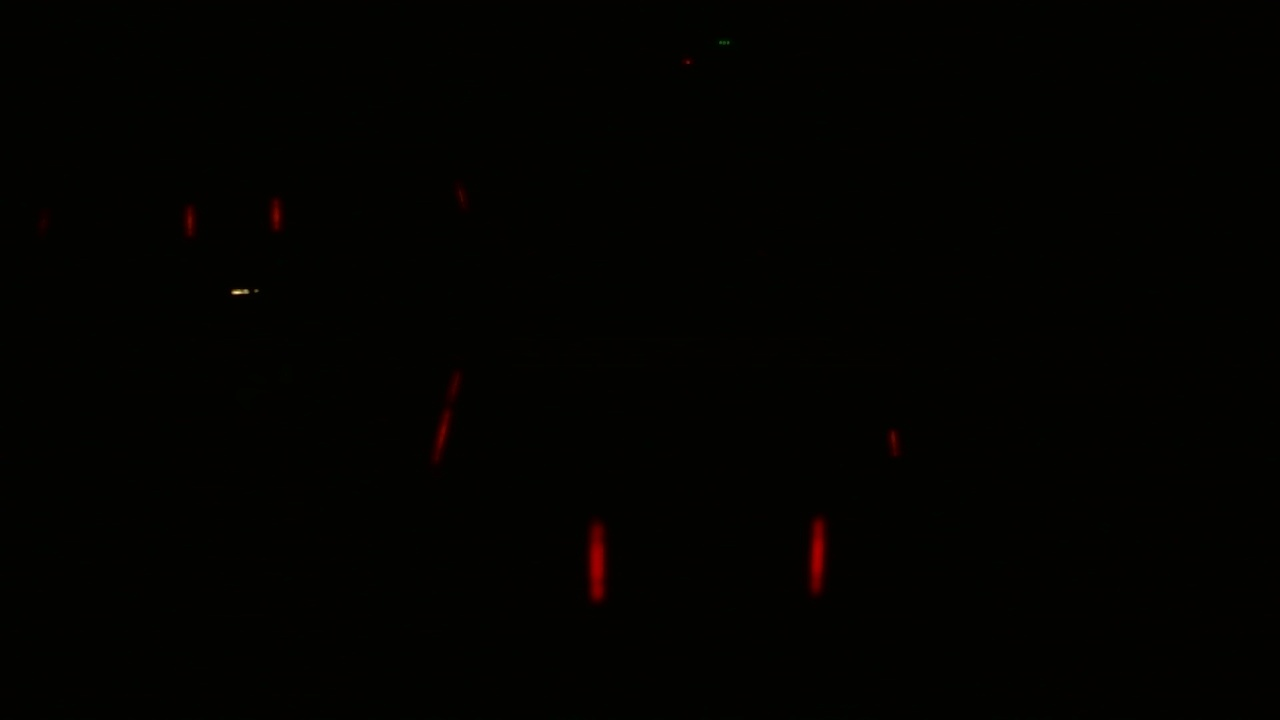pair1: (579, 508, 831, 607), (180, 182, 283, 243)
